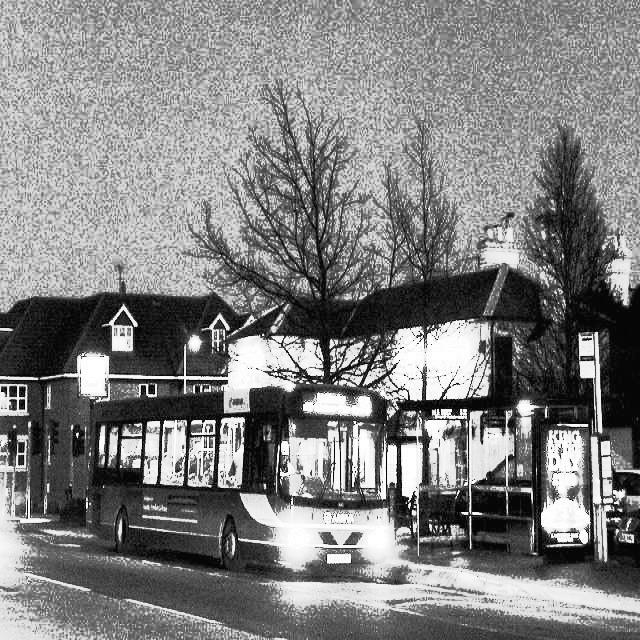Bus: (74, 372, 441, 605)
